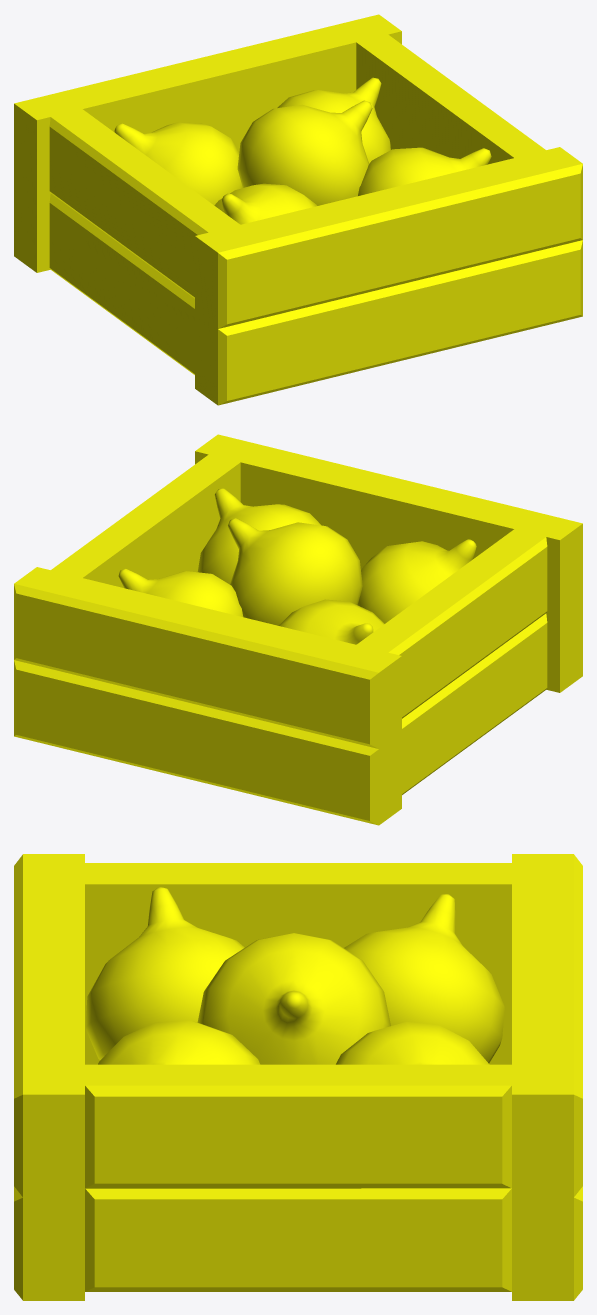
File: crate_onions.gltf
The picture shows the model from 3 angles, top to bottom: view 1: azimuth 30°, elevation 25°; view 2: azimuth 150°, elevation 25°; view 3: azimuth 270°, elevation 25°; orthographic projection. The views are drawn at different scales.
Visible parts, largest first — view 1: crate_onions; view 2: crate_onions; view 3: crate_onions.
Boxes of the visible parts, x1,y1,x2,y2 form: crate_onions: (14, 14, 582, 405); crate_onions: (14, 434, 582, 825); crate_onions: (14, 854, 582, 1300).
Size of the model in its own units: 2 by 0.9234 by 2.
Materials: 1 (1 with a texture image).
